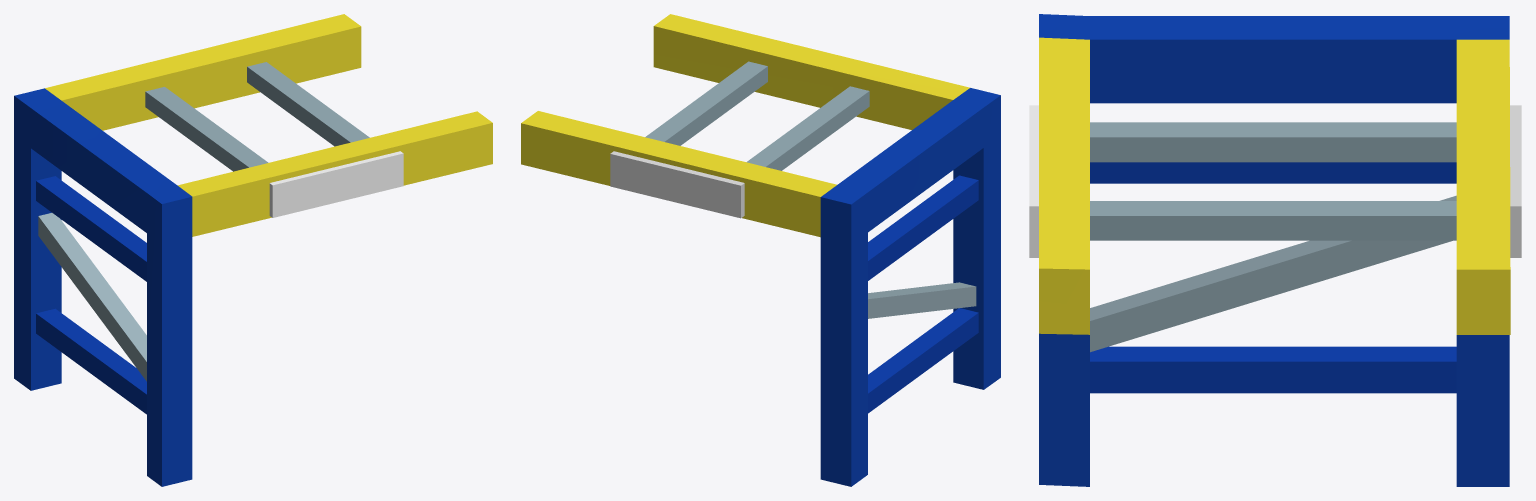
The model's file is Rack-HalfYellow48.fbx.
3 renders of one model, left to right at view 1: azimuth 30°, elevation 25°; view 2: azimuth 150°, elevation 25°; view 3: azimuth 270°, elevation 25°, orthographic. The views are drawn at different scales.
Parts seen in each view (by area): view 1: Rack-HalfYellow48, LabelFront.004; view 2: Rack-HalfYellow48, LabelRear.004; view 3: Rack-HalfYellow48, LabelRear.004, LabelFront.004.
Boxes of the visible parts, x1,y1,x2,y2 form: Rack-HalfYellow48: (14, 14, 492, 486); LabelFront.004: (269, 151, 403, 217); Rack-HalfYellow48: (521, 14, 1000, 486); LabelRear.004: (610, 151, 744, 218); Rack-HalfYellow48: (1039, 14, 1510, 486); LabelRear.004: (1510, 105, 1521, 257); LabelFront.004: (1029, 105, 1038, 257).
Bounding box in the file's own units: 1.49 × 1.21 × 1.22.
